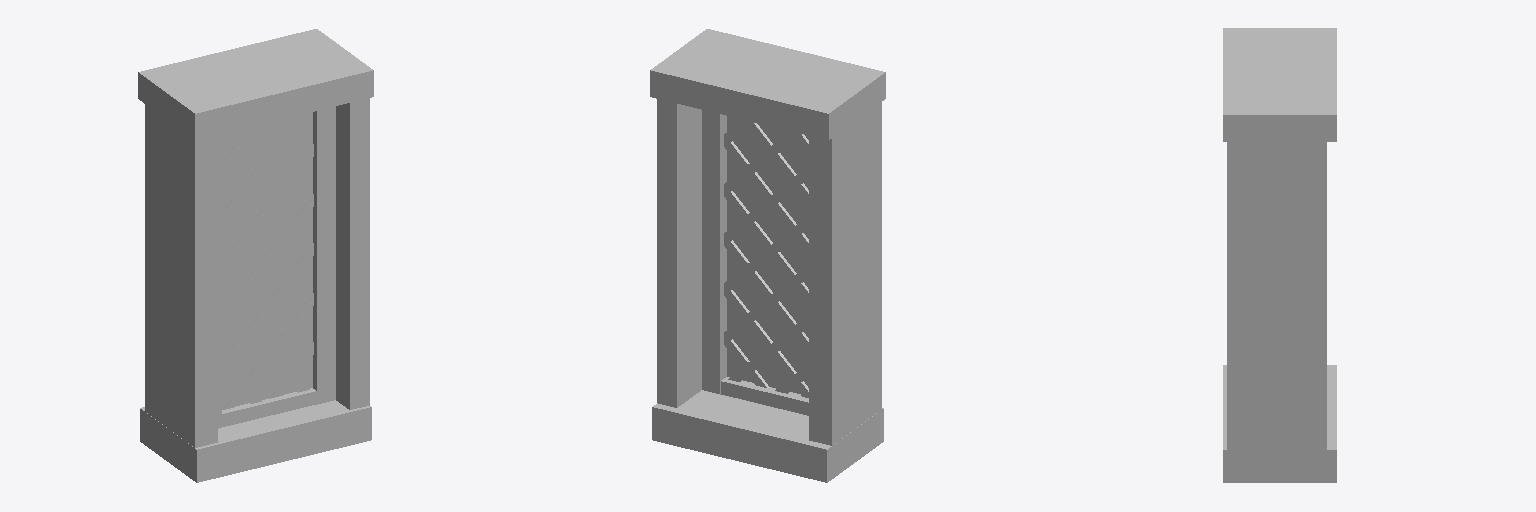
Rendered from Window_Thin_Flat2.obj.
3 renders of one model, left to right at view 1: azimuth 30°, elevation 25°; view 2: azimuth 150°, elevation 25°; view 3: azimuth 270°, elevation 25°, orthographic.
Parts seen in each view (by area): view 1: Window_Thin_Flat2; view 2: Window_Thin_Flat2; view 3: Window_Thin_Flat2.
Boxes of the visible parts, <box> form: Window_Thin_Flat2: <box>138,29,373,482</box>; Window_Thin_Flat2: <box>650,29,885,482</box>; Window_Thin_Flat2: <box>1223,28,1336,482</box>.
Bounding box in the file's own units: 0.788 × 1.56 × 0.4357.